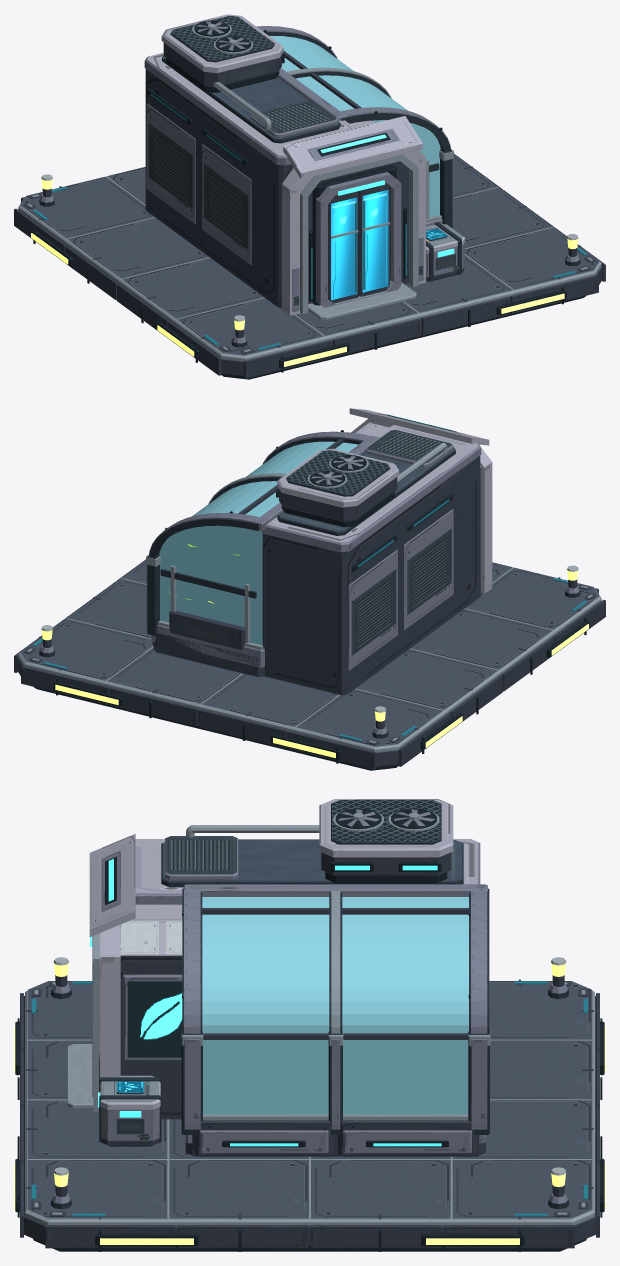
The model's file is GH01_GranjaHidroponicaBasica.fbx.
3 renders of one model, top to bottom at view 1: azimuth 30°, elevation 25°; view 2: azimuth 150°, elevation 25°; view 3: azimuth 270°, elevation 25°, orthographic. The views are drawn at different scales.
Visible parts, largest first — view 1: Estructura_1, Cristal_1; view 2: Estructura_1, Cristal_1; view 3: Estructura_1, Cristal_1.
Part boxes in pixels (x1,y1,x2,y2): Estructura_1: [14, 14, 605, 379]; Cristal_1: [269, 35, 440, 217]; Estructura_1: [14, 408, 605, 770]; Cristal_1: [159, 441, 358, 645]; Estructura_1: [14, 799, 605, 1251]; Cristal_1: [202, 897, 468, 1114].
Size of the model in its own units: 5.72 by 3.05 by 5.74.
